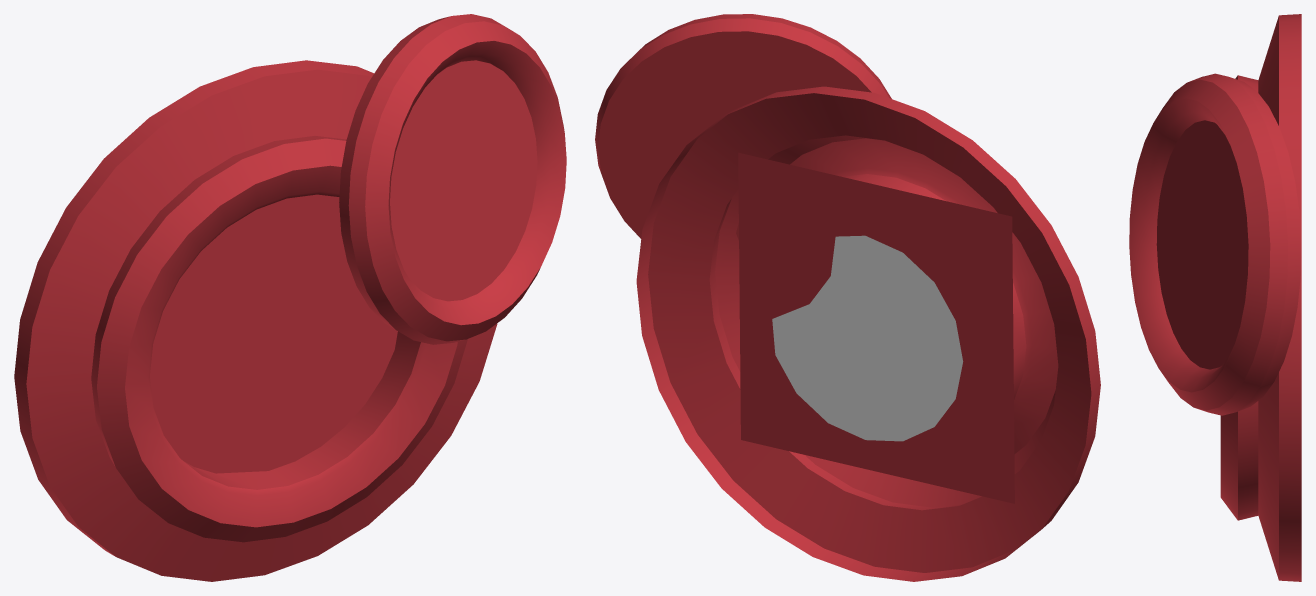
The model's file is airhockey_gem_spawn_geo.glb.
3 renders of one model, left to right at view 1: azimuth 30°, elevation 25°; view 2: azimuth 150°, elevation 25°; view 3: azimuth 270°, elevation 25°, orthographic. The views are drawn at different scales.
Visible parts, largest first — view 1: gem_spawn; view 2: gem_spawn, gem_spawn_glow; view 3: gem_spawn.
Boxes of the visible parts, x1=… form: gem_spawn: x1=14, y1=14, x2=566, y2=581; gem_spawn: x1=595, y1=14, x2=1100, y2=581; gem_spawn_glow: x1=772, y1=235, x2=963, y2=441; gem_spawn: x1=1129, y1=14, x2=1301, y2=581.
Bounding box in the file's own units: 2.47 × 2.35 × 0.6747.
